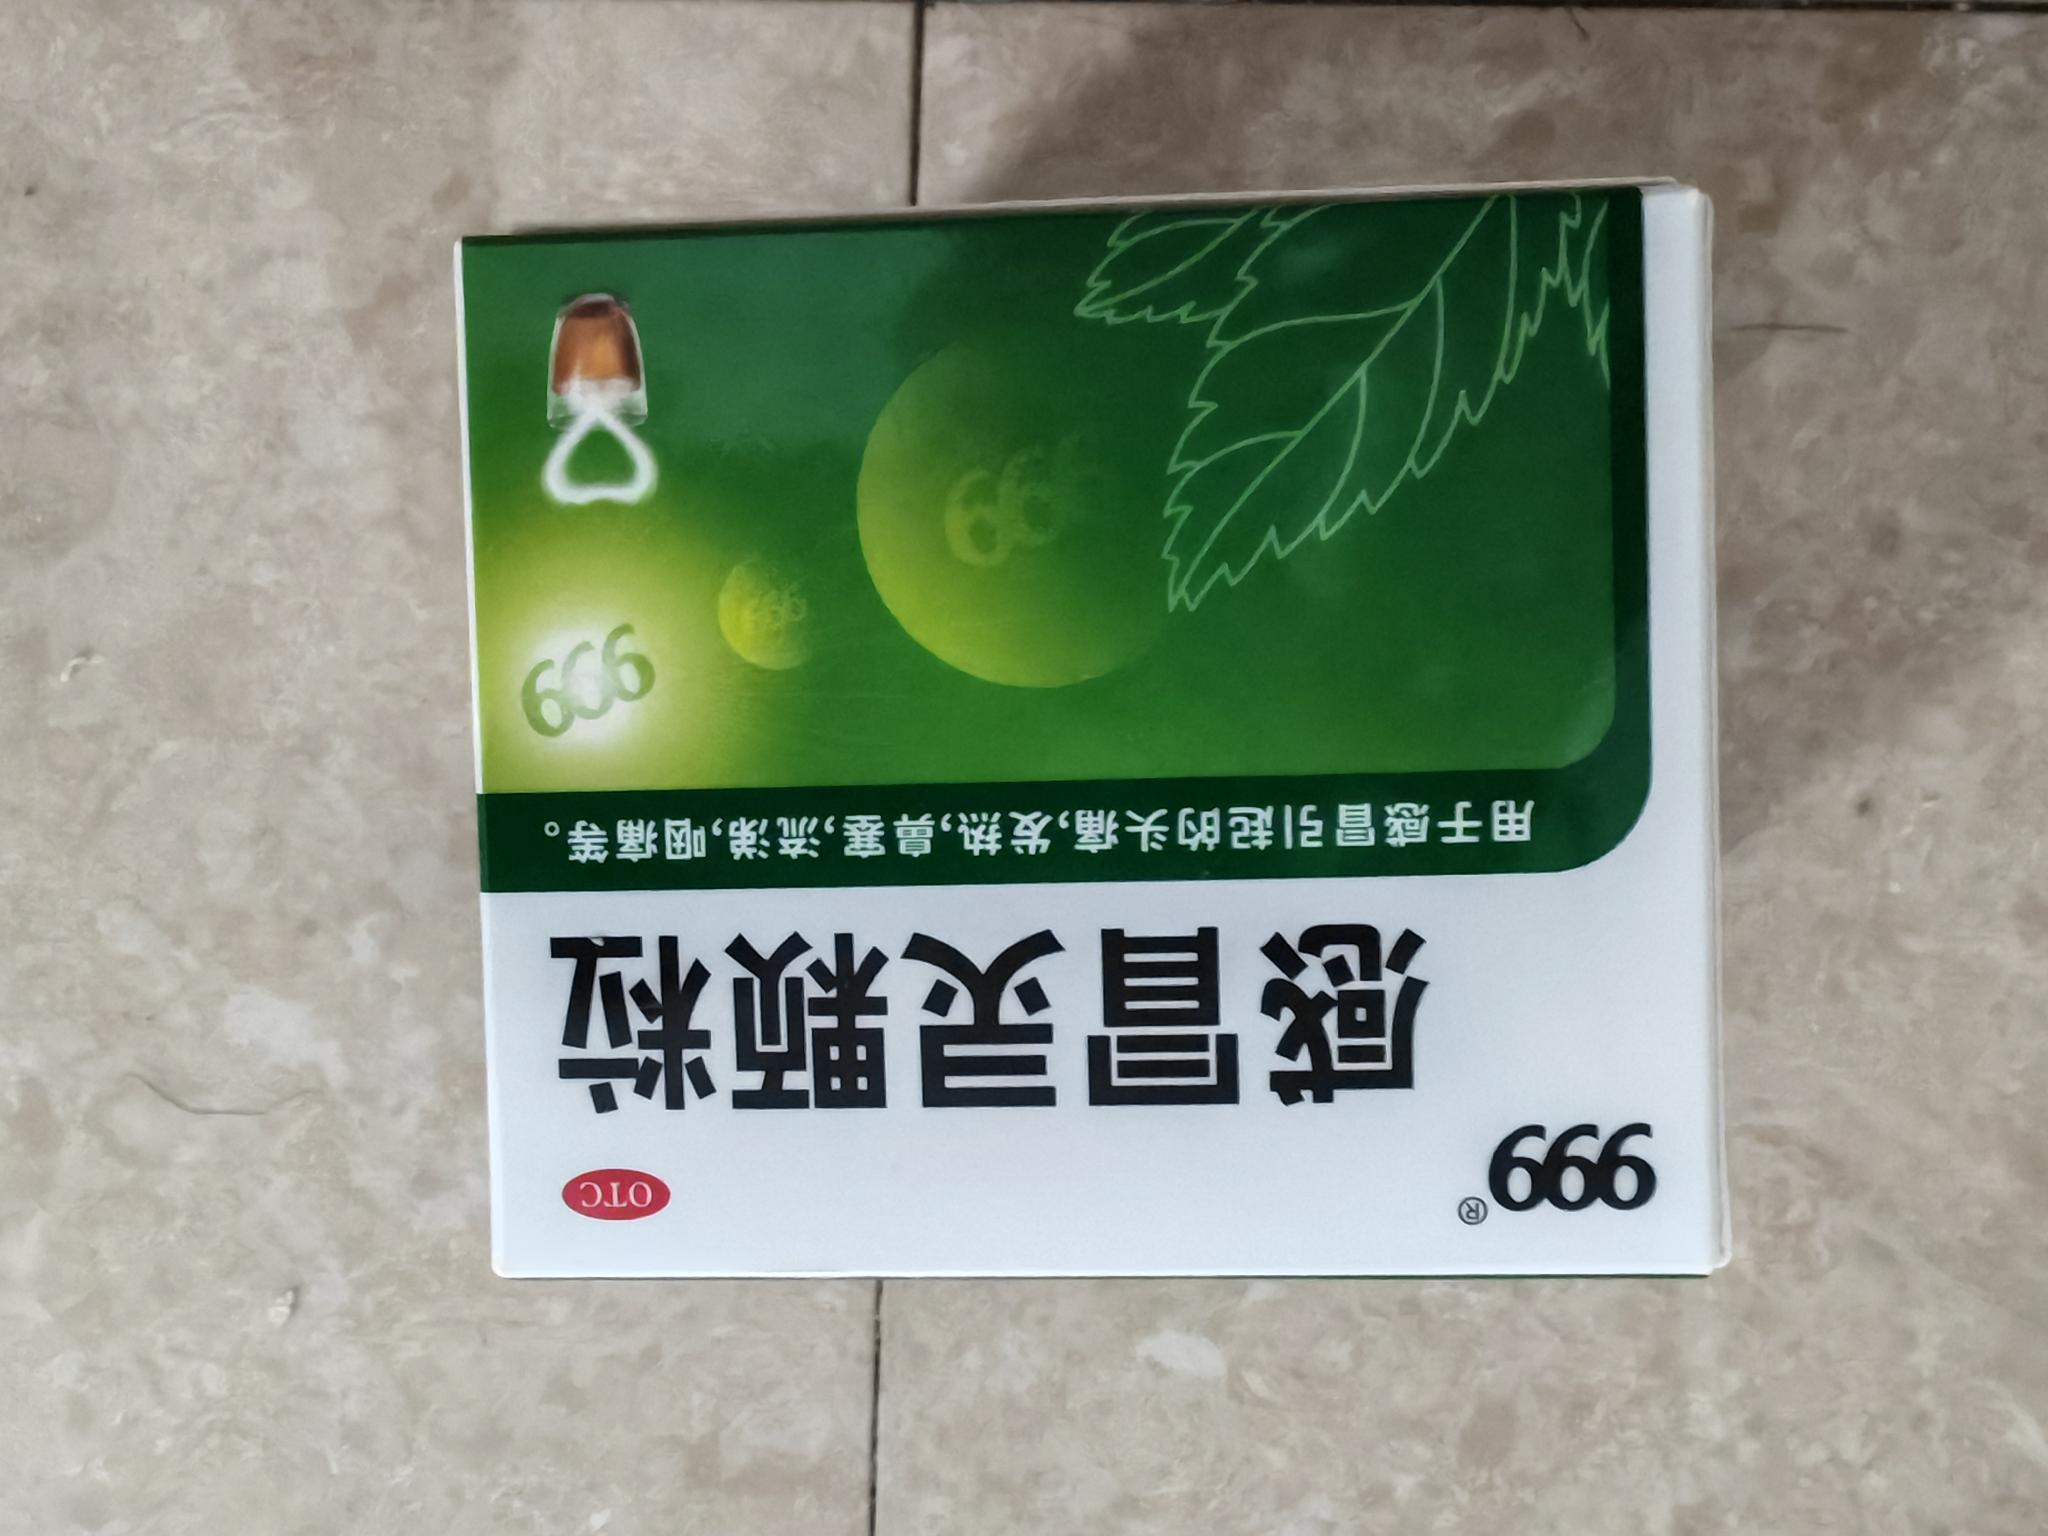Medicine3: (440, 157, 1763, 1326)
